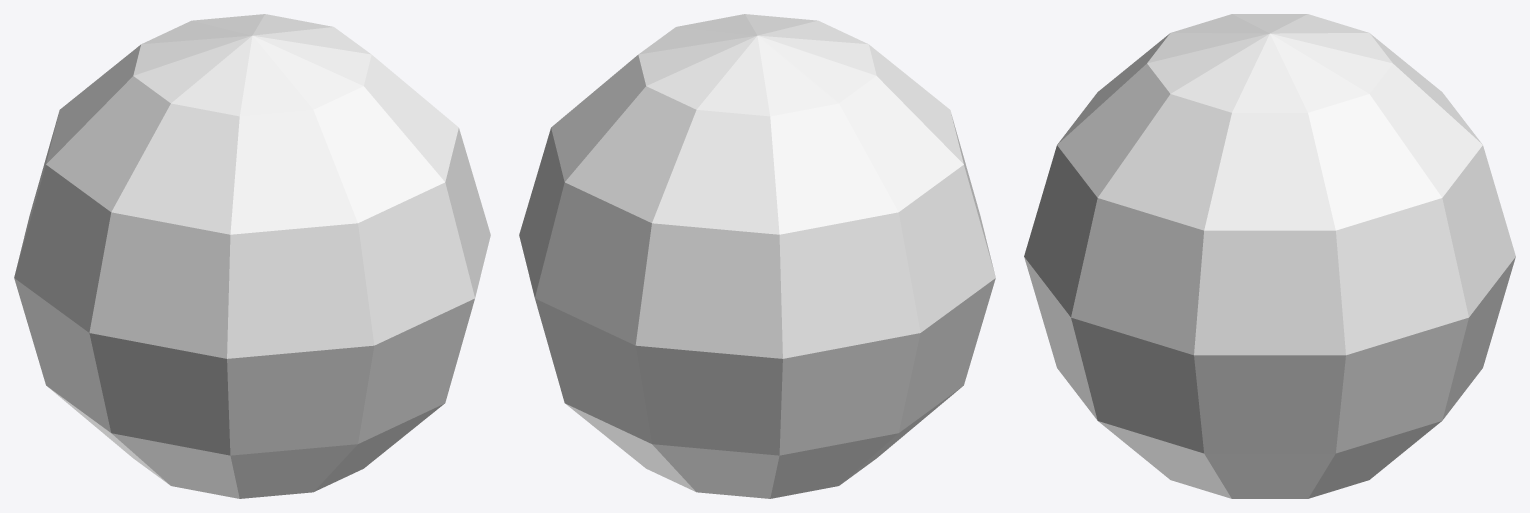
Rendered from Train_cloud.fbx.
3 renders of one model, left to right at view 1: azimuth 30°, elevation 25°; view 2: azimuth 150°, elevation 25°; view 3: azimuth 270°, elevation 25°, orthographic.
Parts seen in each view (by area): view 1: Sphere; view 2: Sphere; view 3: Sphere.
Part boxes in pixels (box(x1,y1,x2,y2)): Sphere: box(14, 14, 490, 498); Sphere: box(519, 14, 995, 498); Sphere: box(1024, 14, 1515, 498).
Bounding box in the file's own units: 190 × 200 × 200.
